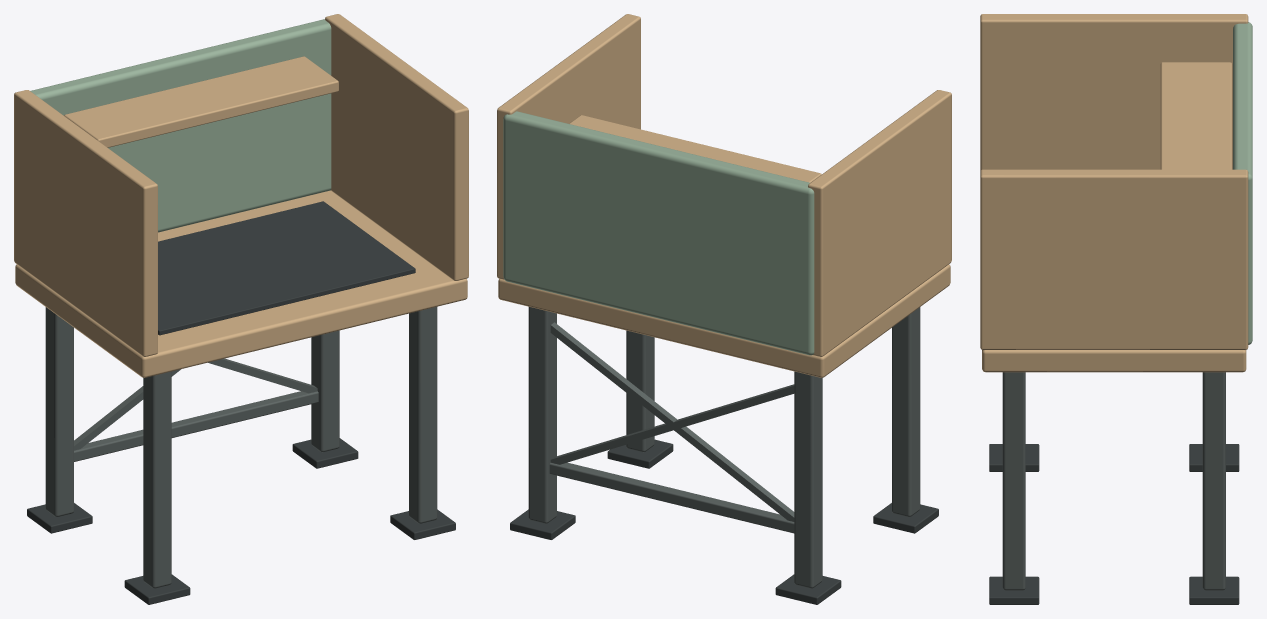
The model's file is public-library-and-reading-garden-public-library-and-r-88040a09__30923.glb.
The picture shows the model from 3 angles, left to right: view 1: azimuth 30°, elevation 25°; view 2: azimuth 150°, elevation 25°; view 3: azimuth 270°, elevation 25°; orthographic projection. The views are drawn at different scales.
Visible parts, largest first — view 1: public-library-and-reading-garden-quiet-study-carrel; view 2: public-library-and-reading-garden-quiet-study-carrel; view 3: public-library-and-reading-garden-quiet-study-carrel.
Boxes of the visible parts, x1,y1,x2,y2 form: public-library-and-reading-garden-quiet-study-carrel: (14, 14, 468, 604); public-library-and-reading-garden-quiet-study-carrel: (497, 14, 951, 604); public-library-and-reading-garden-quiet-study-carrel: (980, 14, 1252, 604).
Bounding box in the file's own units: 1.08 × 1.34 × 0.7625.
